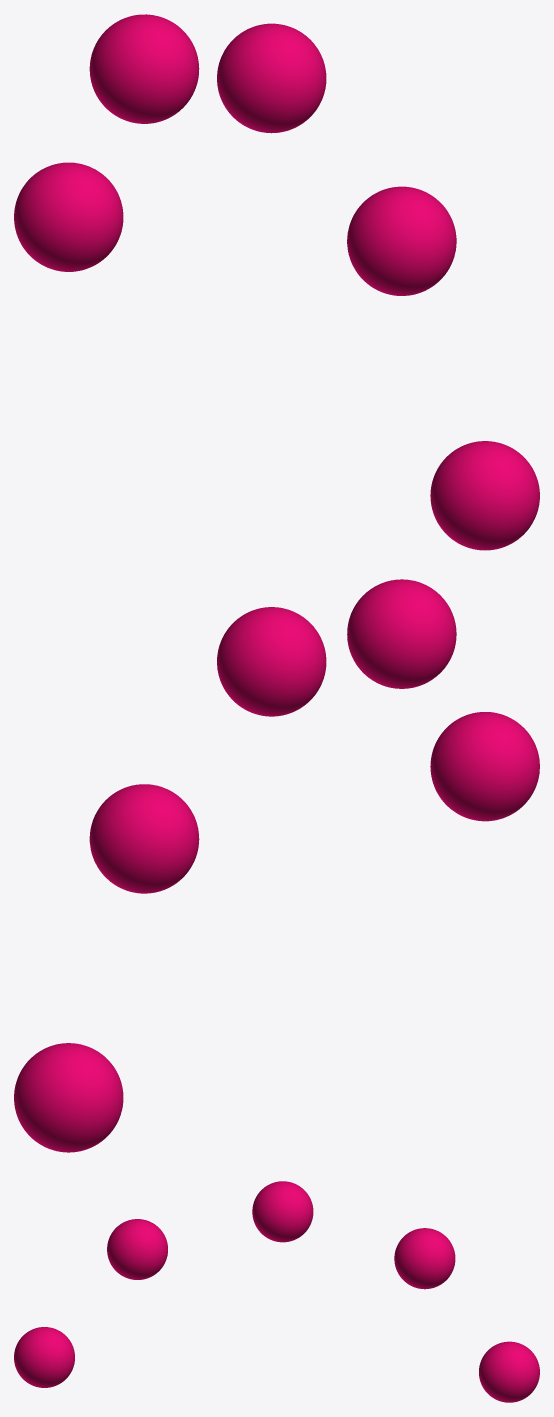
File: Dream.Globe.fbx
3 views of the same model, one above another, from view 1: azimuth 30°, elevation 25°; view 2: azimuth 150°, elevation 25°; view 3: azimuth 270°, elevation 25° (orthographic). The views are drawn at different scales.
Parts seen in each view (by area): view 1: Dream.Globe.003, Dream.Globe.001, Dream.Globe.005, Dream.Globe.002, Dream.Globe.004; view 2: Dream.Globe.004, Dream.Globe.002, Dream.Globe.003, Dream.Globe.005, Dream.Globe.001; view 3: Dream.Globe.003, Dream.Globe.004, Dream.Globe.005, Dream.Globe.001, Dream.Globe.002.
Part boxes in pixels (x1=…): Dream.Globe.003: x1=217, y1=23, x2=326, y2=133; Dream.Globe.001: x1=430, y1=441, x2=539, y2=550; Dream.Globe.005: x1=14, y1=162, x2=123, y2=271; Dream.Globe.002: x1=347, y1=186, x2=456, y2=295; Dream.Globe.004: x1=89, y1=14, x2=199, y2=123; Dream.Globe.004: x1=89, y1=784, x2=199, y2=893; Dream.Globe.002: x1=347, y1=579, x2=456, y2=688; Dream.Globe.003: x1=217, y1=607, x2=326, y2=716; Dream.Globe.005: x1=14, y1=1043, x2=123, y2=1152; Dream.Globe.001: x1=430, y1=712, x2=539, y2=821; Dream.Globe.003: x1=252, y1=1181, x2=313, y2=1242; Dream.Globe.004: x1=394, y1=1228, x2=455, y2=1289; Dream.Globe.005: x1=479, y1=1341, x2=539, y2=1402; Dream.Globe.001: x1=14, y1=1327, x2=74, y2=1387; Dream.Globe.002: x1=107, y1=1219, x2=167, y2=1279.
Size of the model in its own units: 2 by 7.79 by 17.21.
